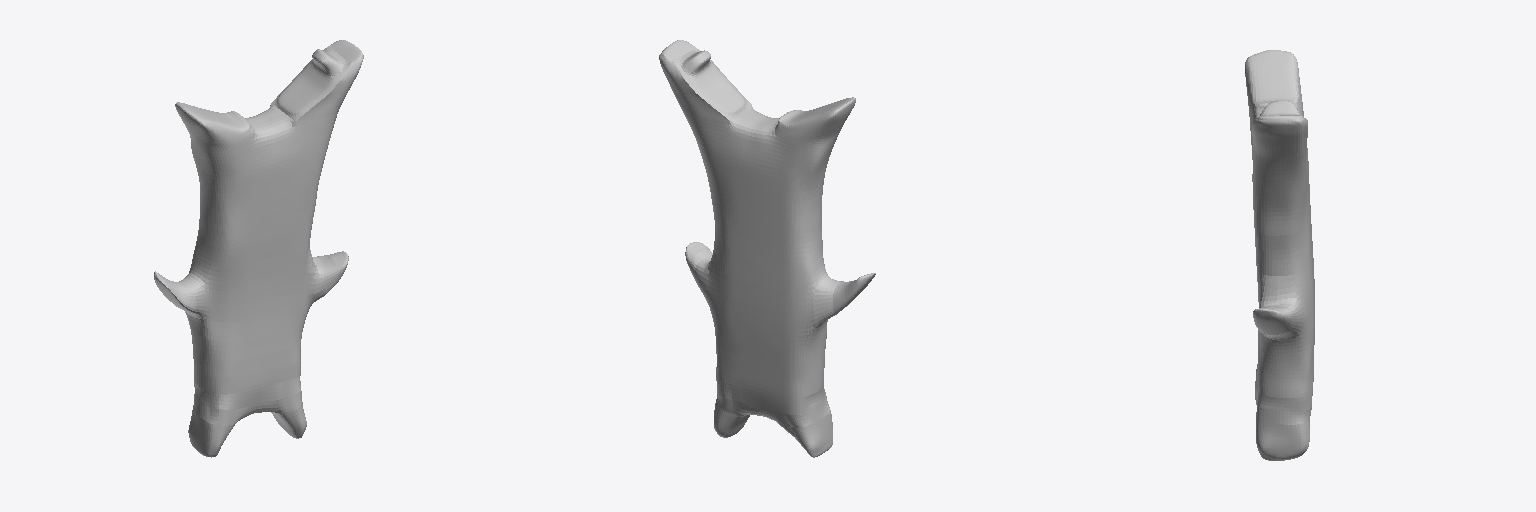
File: korok5.obj
3 renders of one model, left to right at view 1: azimuth 30°, elevation 25°; view 2: azimuth 150°, elevation 25°; view 3: azimuth 270°, elevation 25°, orthographic.
Parts seen in each view (by area): view 1: Plane; view 2: Plane; view 3: Plane.
Part boxes in pixels (left/top/right/bottom): Plane: left=154, top=40, right=363, bottom=457; Plane: left=659, top=40, right=875, bottom=457; Plane: left=1245, top=50, right=1314, bottom=460.
Bounding box in the file's own units: 1.02 × 1.82 × 0.3093.